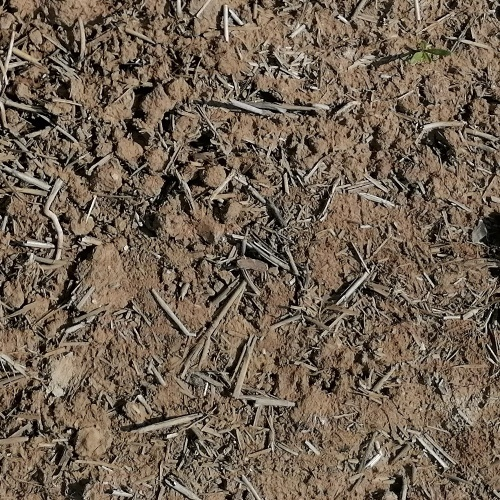beet: (407, 33, 450, 69)
